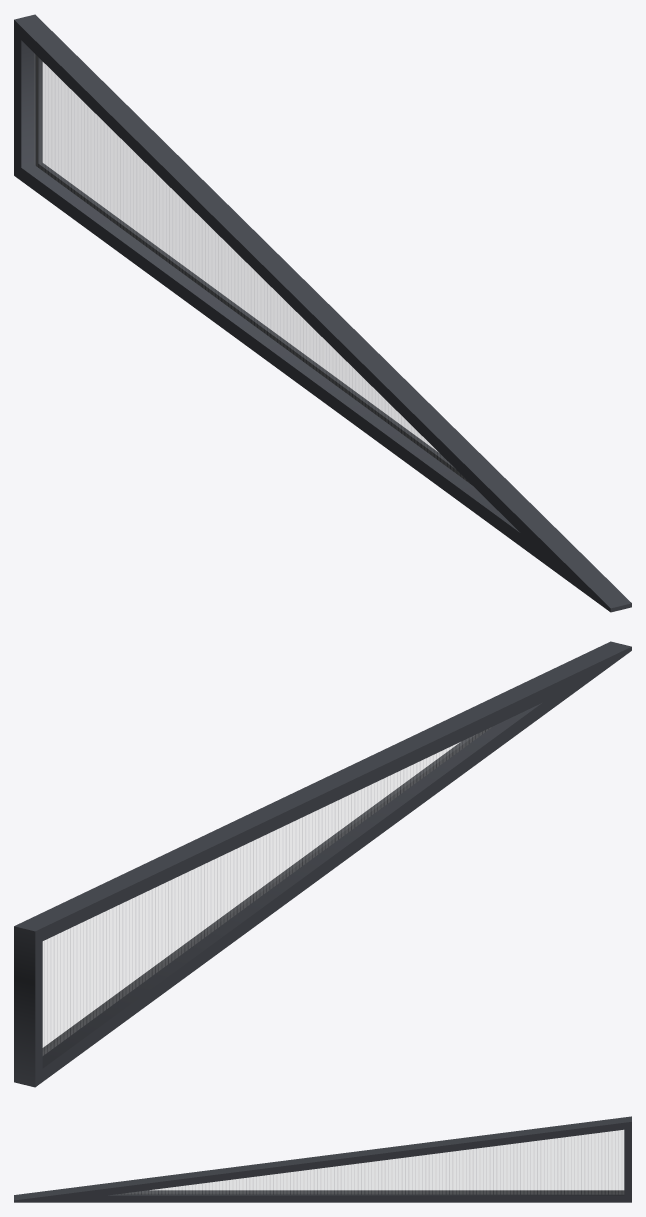
File: nebbiolo_side_gable_right_600_250.glb
3 views of the same model, one above another, from view 1: azimuth 30°, elevation 25°; view 2: azimuth 150°, elevation 25°; view 3: azimuth 270°, elevation 25° (orthographic). The views are drawn at different scales.
Parts seen in each view (by area): view 1: side_gable_right_600_250; view 2: side_gable_right_600_250; view 3: side_gable_right_600_250.
Boxes of the visible parts, x1,y1,x2,y2 form: side_gable_right_600_250: (14, 14, 631, 612); side_gable_right_600_250: (14, 641, 631, 1087); side_gable_right_600_250: (14, 1116, 631, 1202).
Bounding box in the file's own units: 0.05 × 0.3514 × 2.43.
2 materials, 2 textured.
